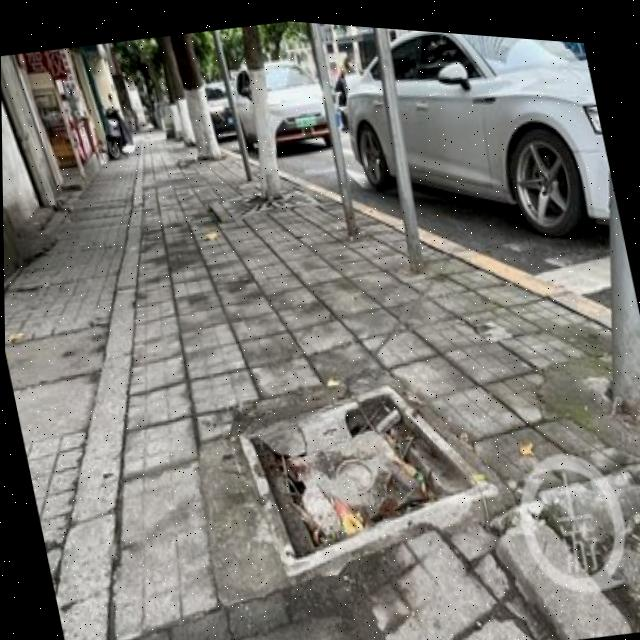manhole: (216, 343, 502, 589)
